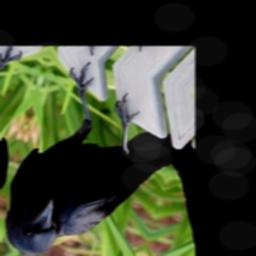Crow: (0, 49, 193, 256)
